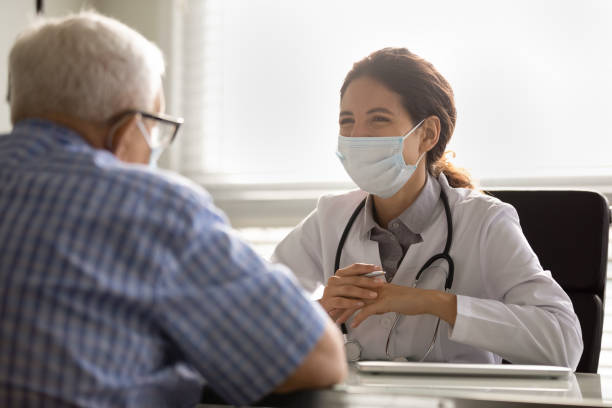with mask: (336, 78, 440, 202)
